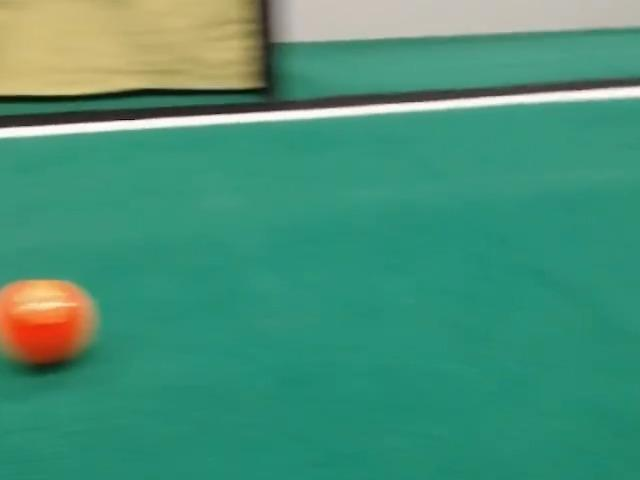Ball: (0, 279, 97, 365)
